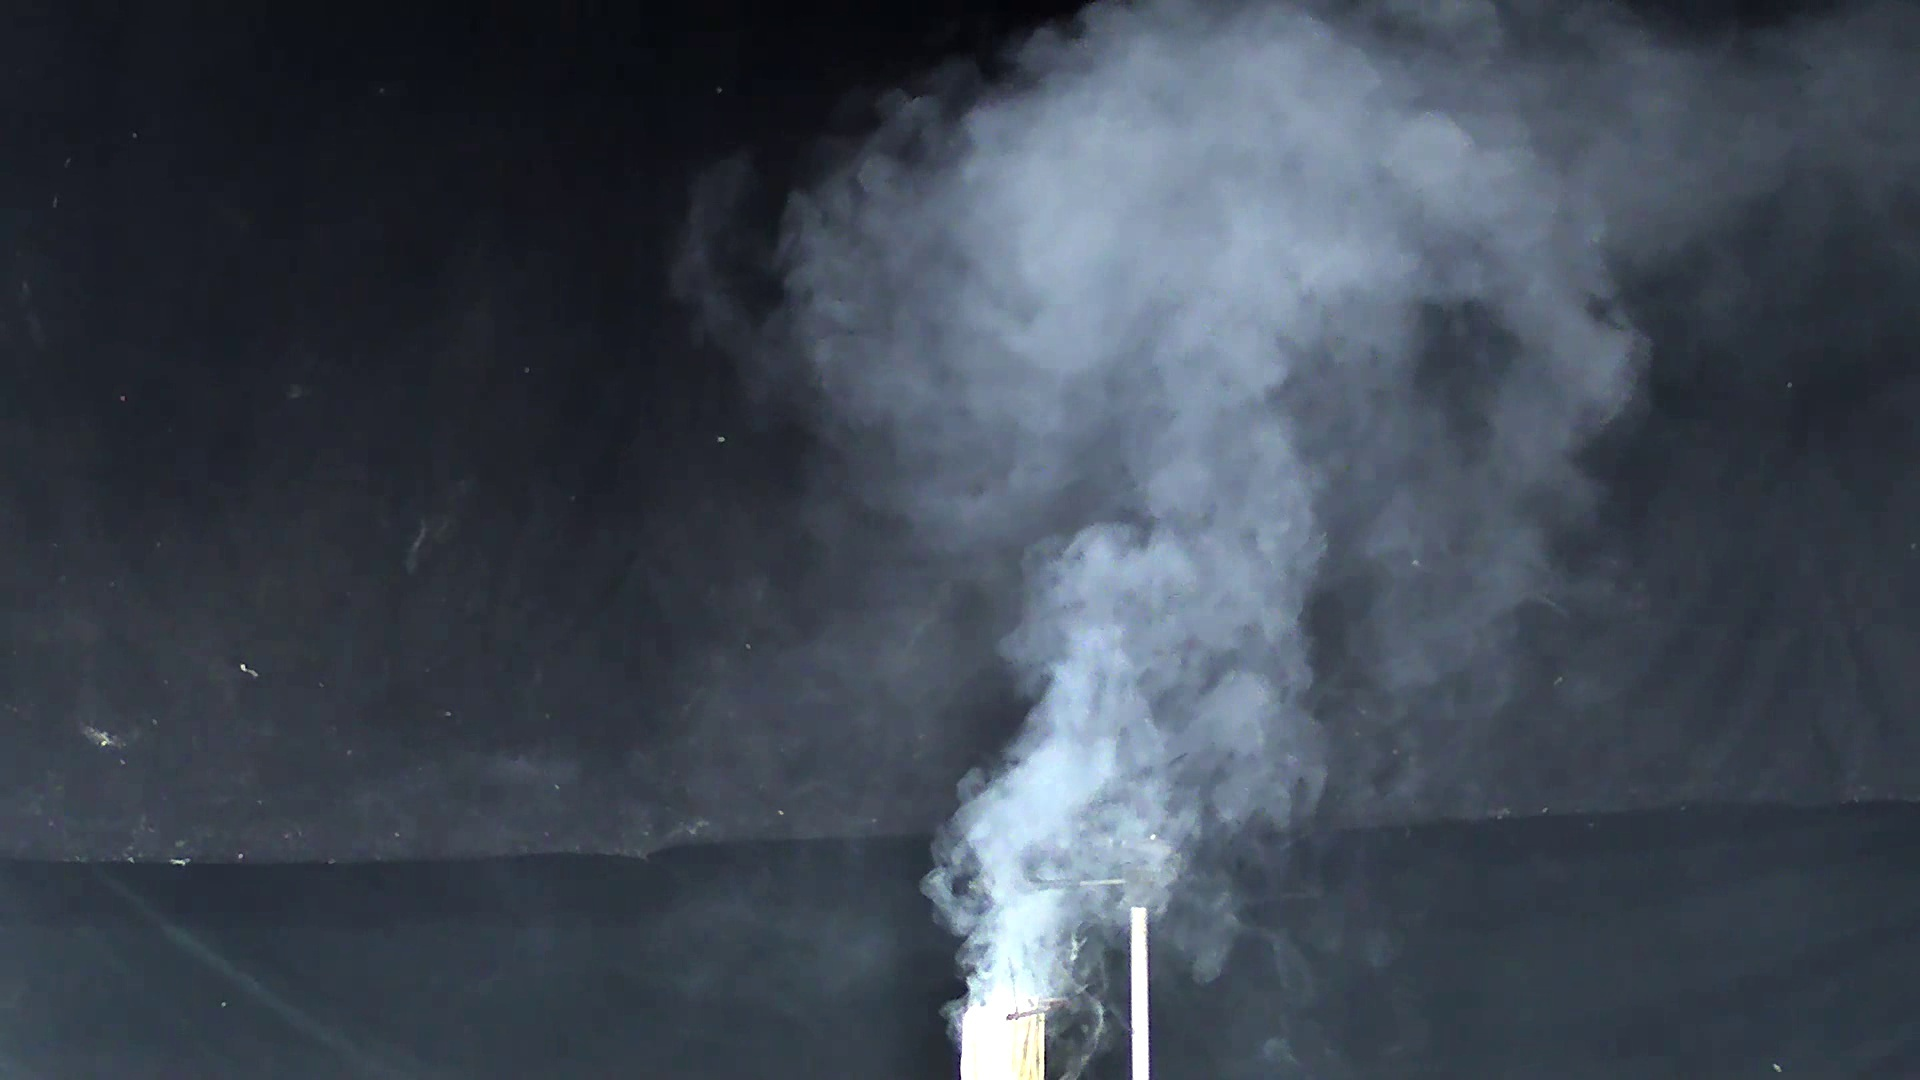smoke: (744, 38, 1650, 1001)
